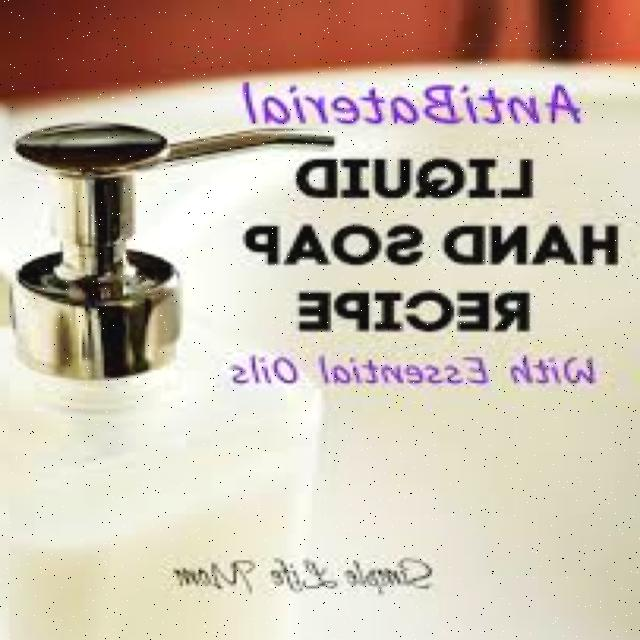liquid soap: (0, 119, 368, 640)
